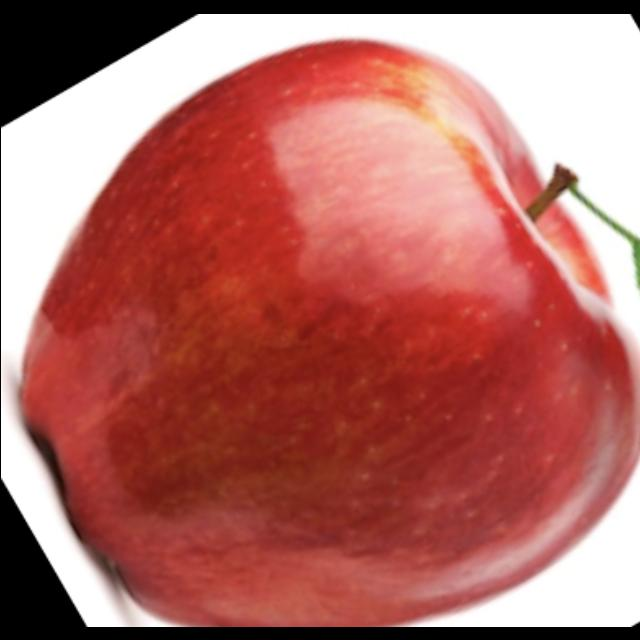Apel Segar: (12, 36, 640, 626)
